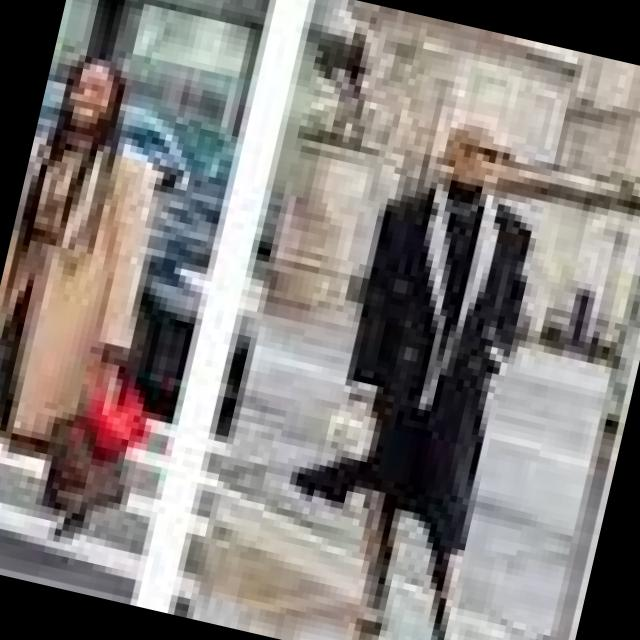Jacket: (286, 165, 567, 553), (0, 118, 180, 466)
